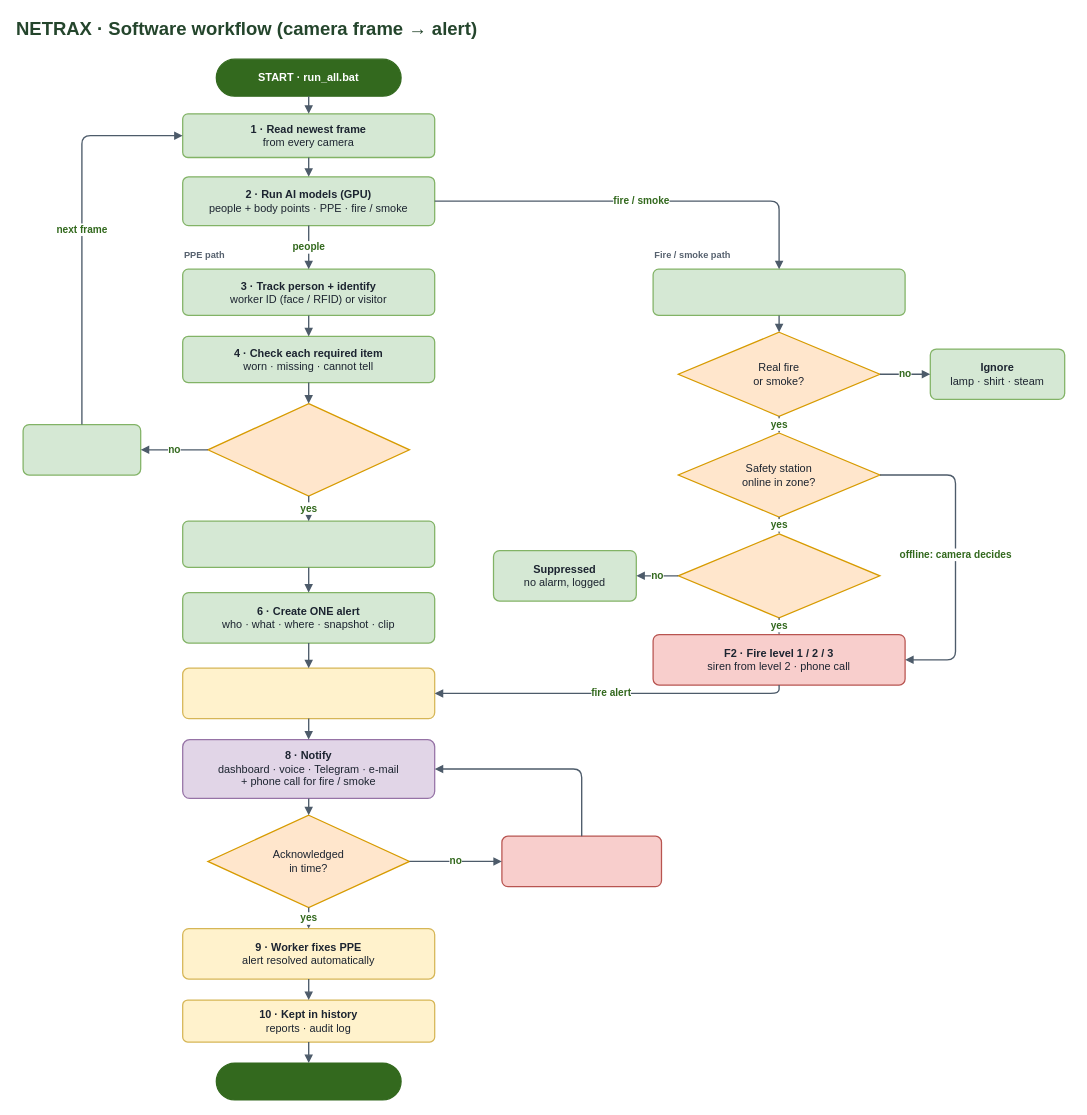
This 1087x1115 diagram has some shape labels left out. Here are the shapes that lost their labels. From the top down, the box of each, then its label:
(652, 268, 905, 316): F1 · Verify the flame / smoke colour · flicker · growth · look-alikes
(22, 424, 141, 475): Keep watching no alert
(207, 403, 410, 496): Item missing in 6 of 10 frames?
(182, 520, 435, 568): 5 · Wait ≤ 1 s for worker name + all missing items
(677, 533, 880, 618): Station confirms within 8 s?
(182, 667, 435, 719): 7 · Backend stores it SQLite + location + severity
(501, 835, 662, 887): Escalate send again
(215, 1062, 401, 1100): END
